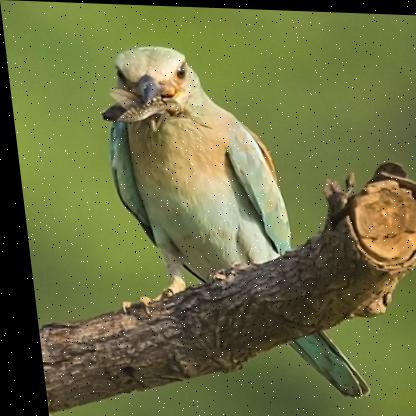Burung: (84, 43, 359, 397)
